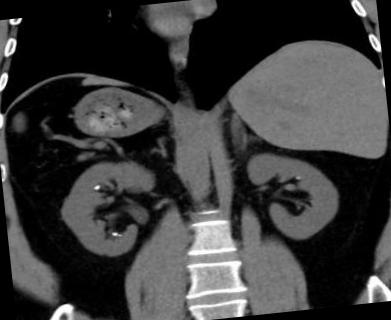Tas_Var: (91, 182, 101, 192), (110, 231, 118, 237), (294, 175, 300, 180), (117, 233, 122, 238)
